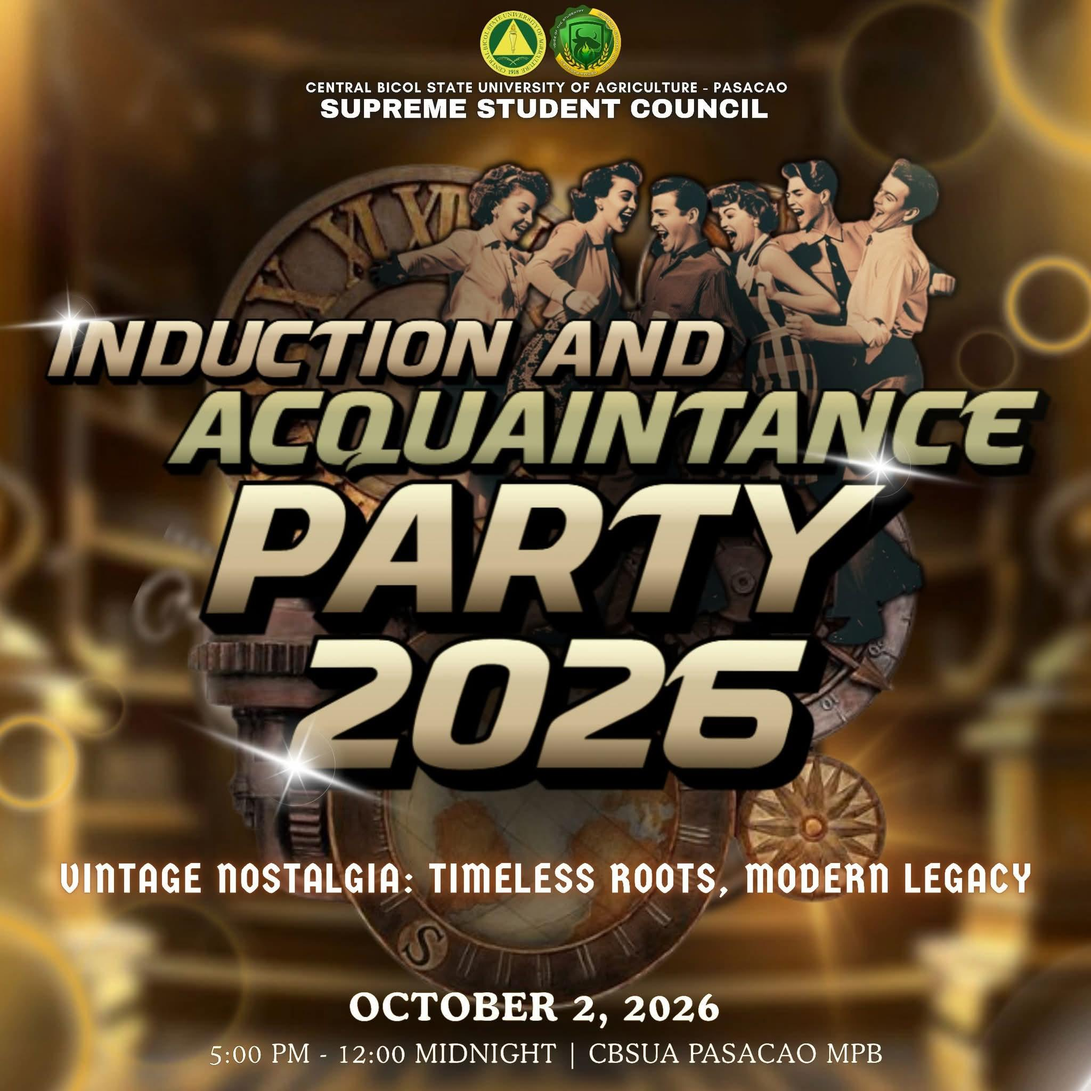embellishment: (209, 156, 954, 333)
logo: (550, 3, 626, 81), (475, 5, 549, 79)
text: (30, 309, 1049, 799), (53, 854, 1042, 902), (202, 1028, 897, 1074), (301, 77, 796, 127), (339, 982, 730, 1026)
